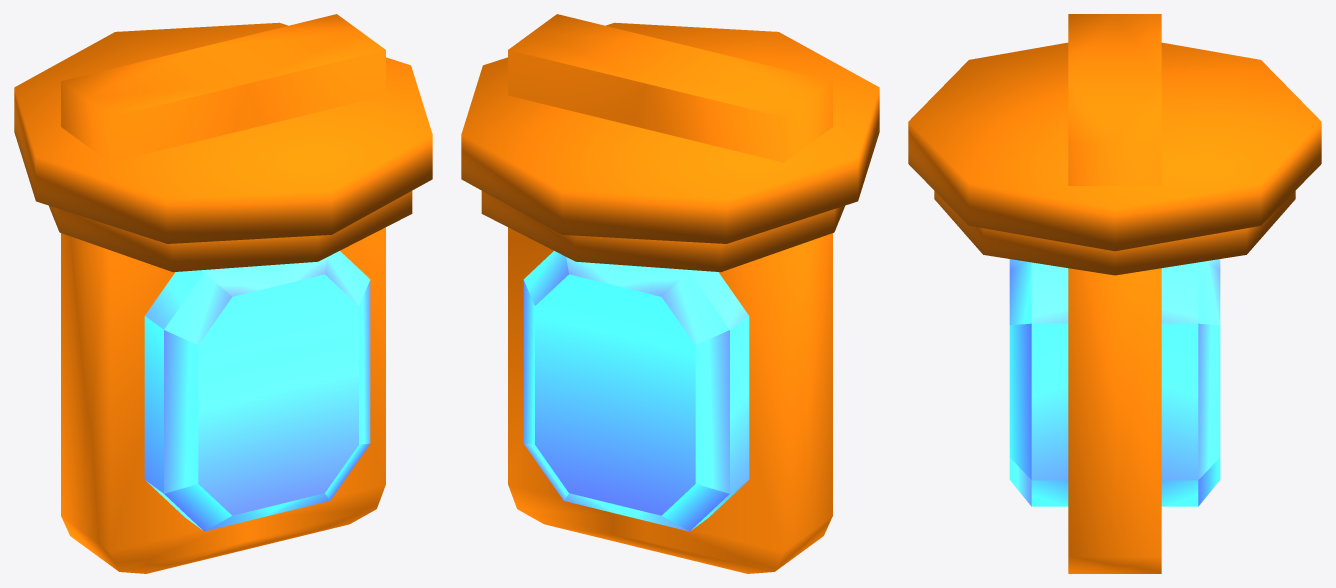
The model's file is bronze_pommel_185.glb.
3 views of the same model, side by side, from view 1: azimuth 30°, elevation 25°; view 2: azimuth 150°, elevation 25°; view 3: azimuth 270°, elevation 25° (orthographic). The views are drawn at different scales.
Parts seen in each view (by area): view 1: bronze_pommel_185; view 2: bronze_pommel_185; view 3: bronze_pommel_185.
Part boxes in pixels (x1,y1,x2,y2): bronze_pommel_185: (14, 14, 432, 573); bronze_pommel_185: (461, 14, 879, 573); bronze_pommel_185: (908, 14, 1321, 573).
Bounding box in the file's own units: 1.83 × 2.17 × 1.83.
1 material, 1 textured.
